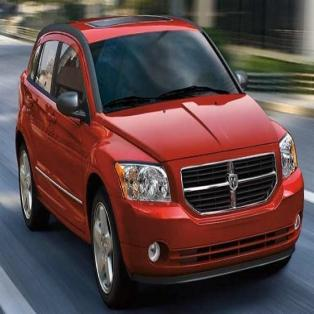Auto: (14, 16, 304, 307)
